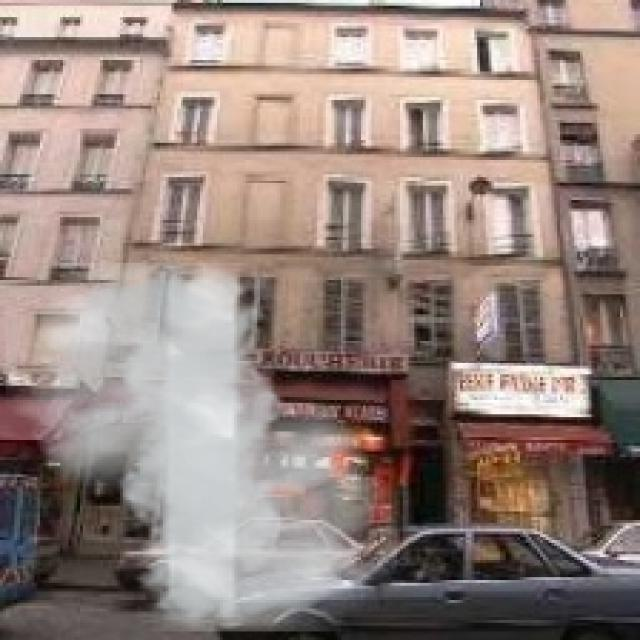Smoke: (6, 263, 397, 632)
